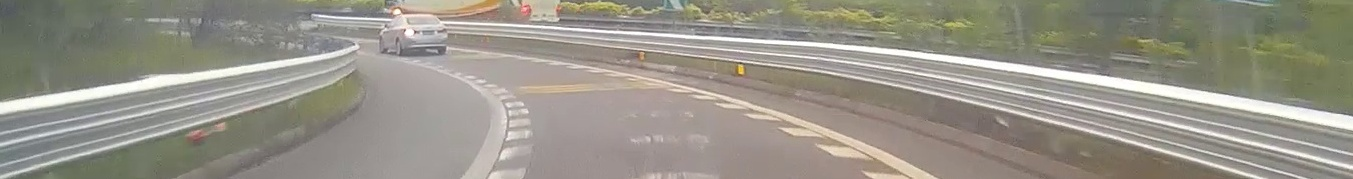L_light: (405, 30, 420, 35)
R_light: (437, 28, 447, 33)
T_light: (420, 17, 426, 19)
day-left: (404, 14, 448, 55)
